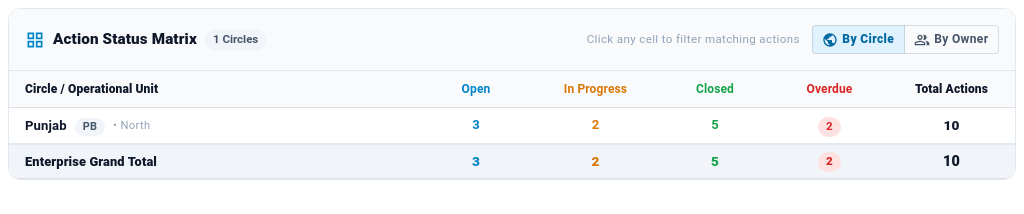
Scenario: GovernanceStatusMatrix Component › allows switching grouping to By Owner
The width and height of the screenshot is (1024, 214).
Click the button "By Owner" at (951, 40), box [904,25,999,54]
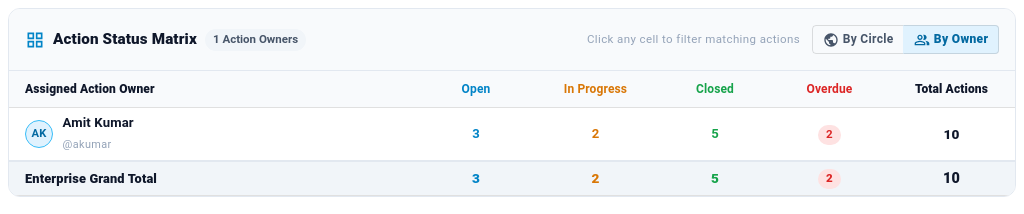
Check: the text "Amit Kumar" is shown, box [63,114,134,133]
Check: the text "AK" is shown, box [25,120,53,148]
